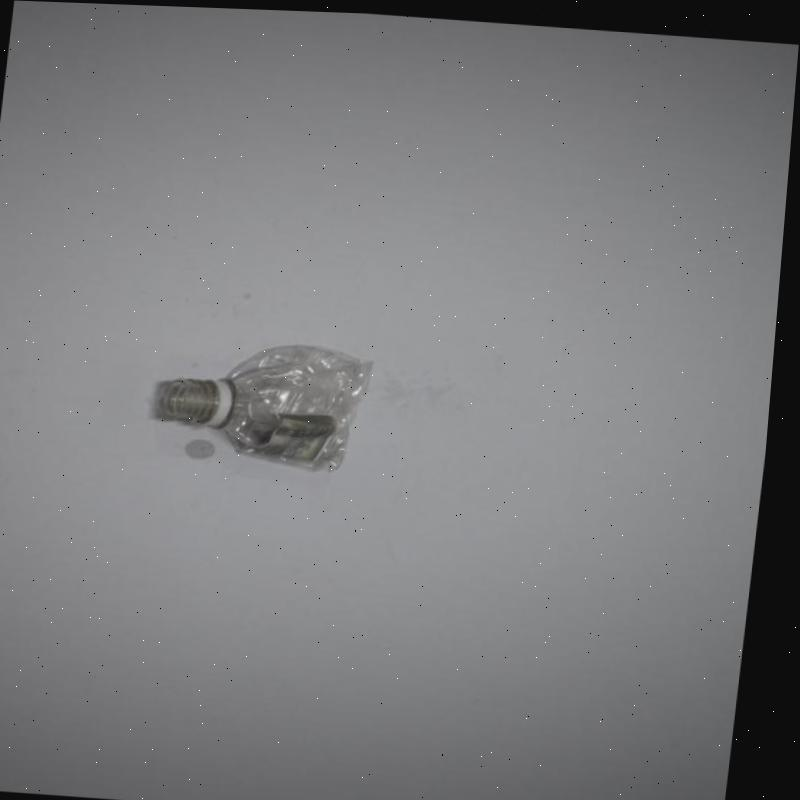botella: (159, 330, 385, 470)
